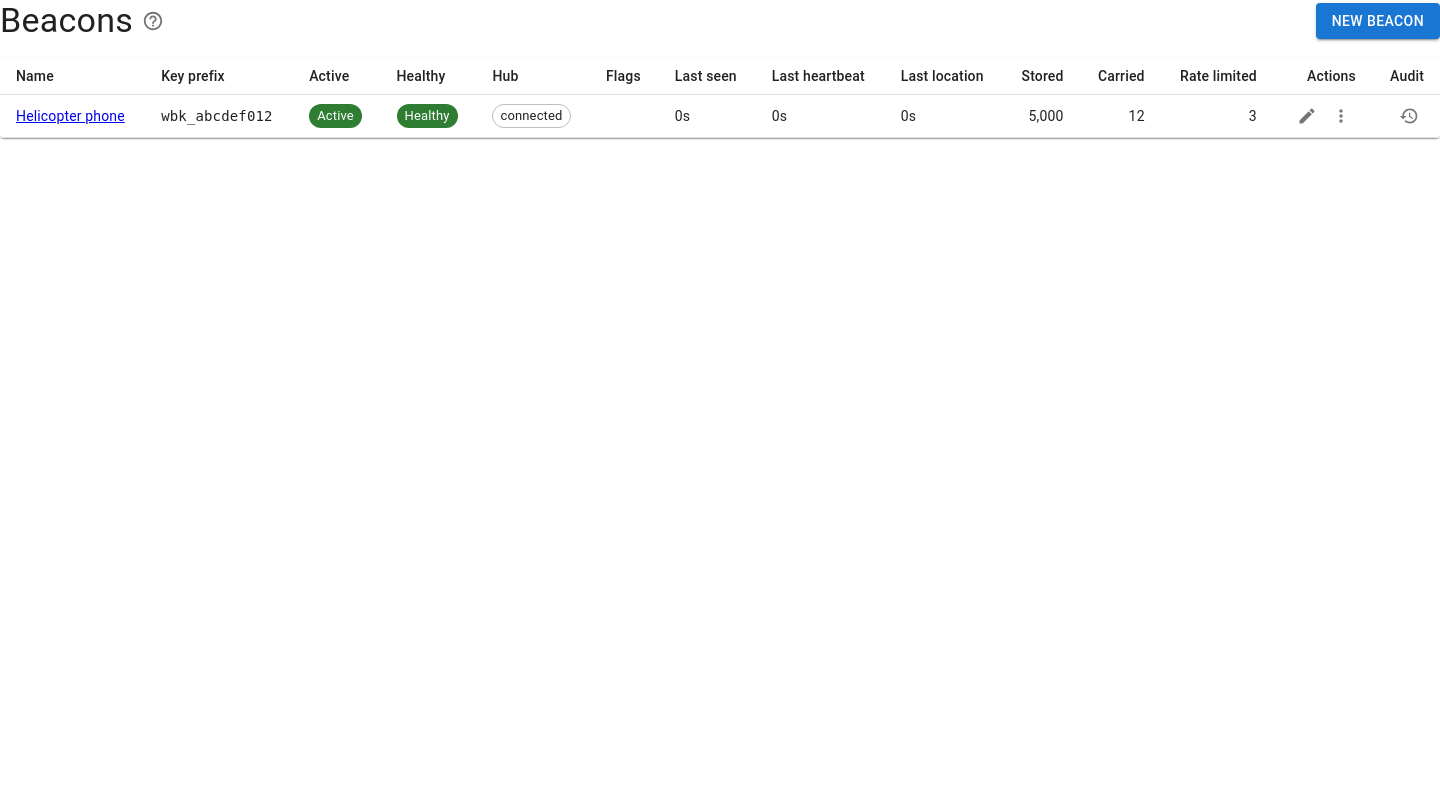
BeaconsList › opens the create dialog with the new text and no role radio
Click the button "New beacon".
click(1378, 21)  # box [1316,3,1439,39]
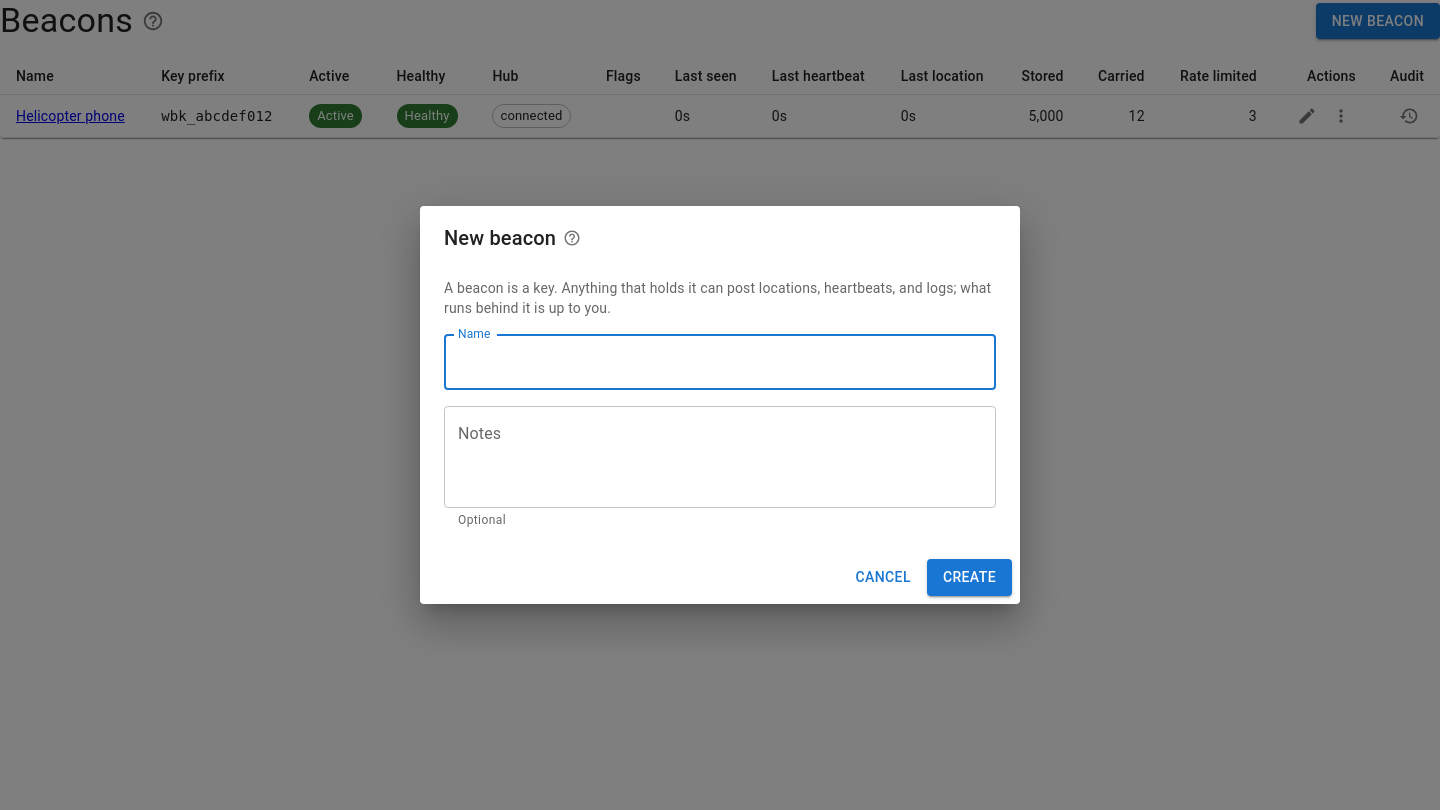
Check: the text "A beacon is a key" is shown, box [444,280,991,316]
Check: the field labelled "Name" is shown, box [444,334,996,390]
